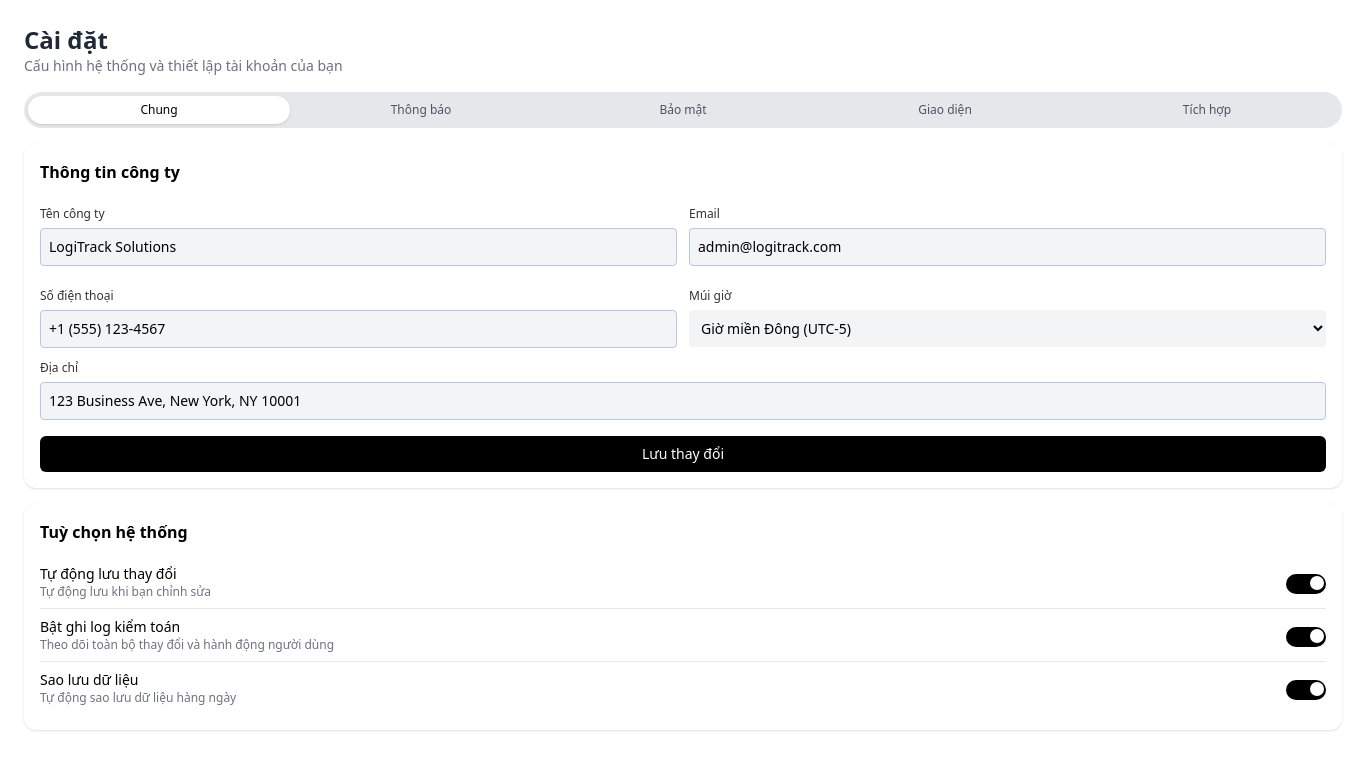
Test: SettingsContent Component (Admin Settings) › nên hiển thị tab Giao diện với các tùy chọn ngôn ngữ
What coordinates should you click on to do the following:
click the button "Giao diện"
I would click on:
 (945, 110)
Its box is 814,96 -> 1076,124.
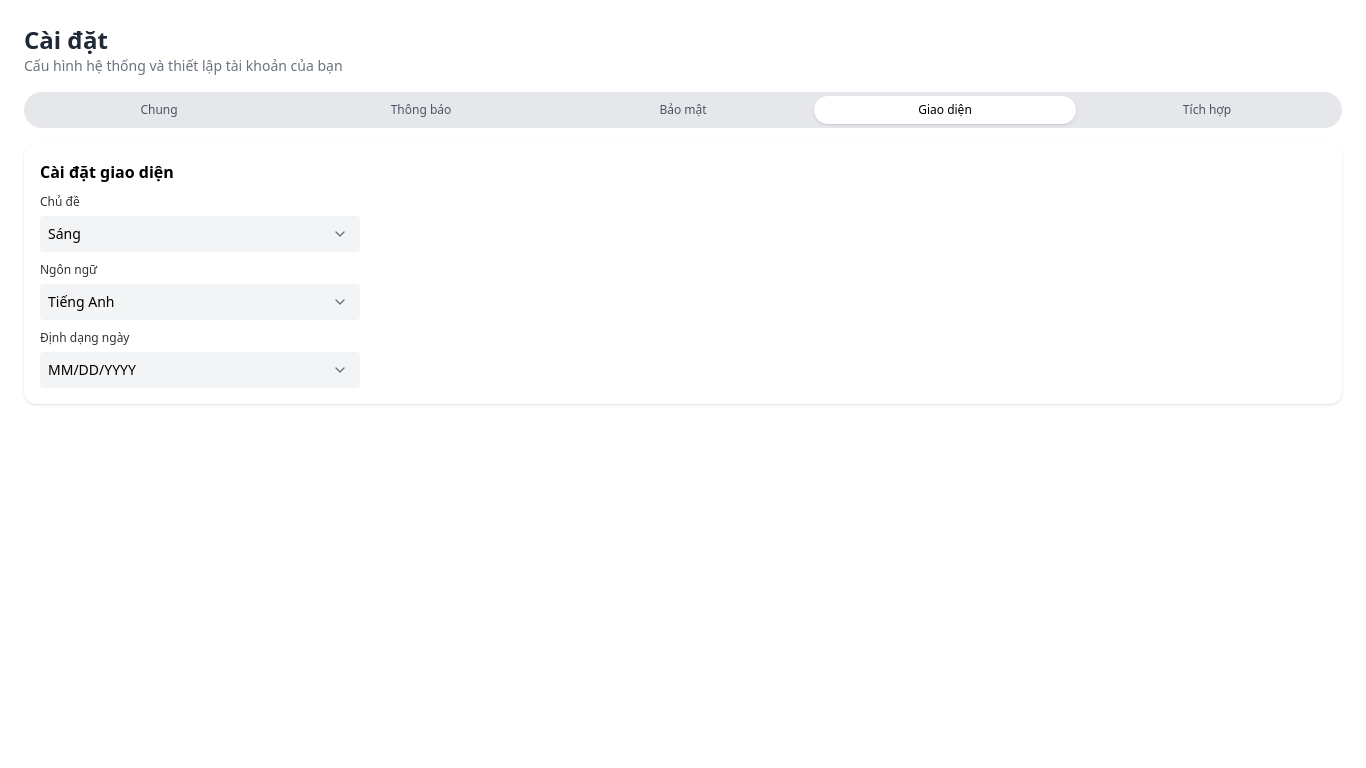
Check: the heading "Cài đặt giao diện" is shown, box 40,161 -> 174,183
Check: the text "Chủ đề" is shown, box 40,193 -> 80,210
